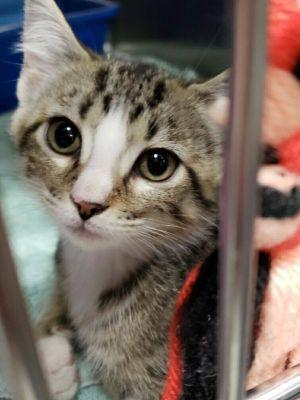bengal: (1, 1, 252, 255)
